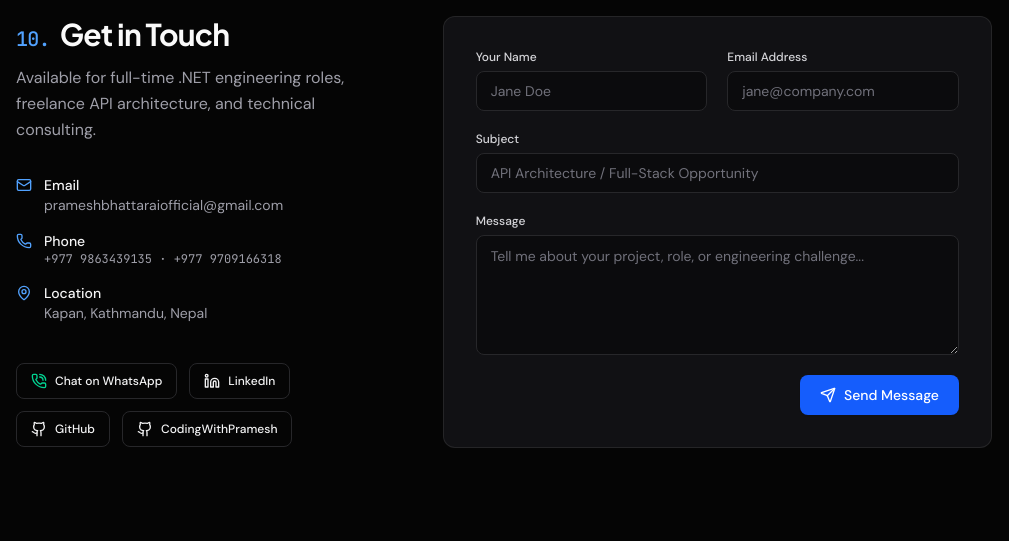
it: Portfolio Core Flows › validates contact form fields before submitting to API
The image size is (1009, 541).
Later steps or results of the test are not shown.
Click the button "Send Message" at (880, 395), box [800,375,959,415]
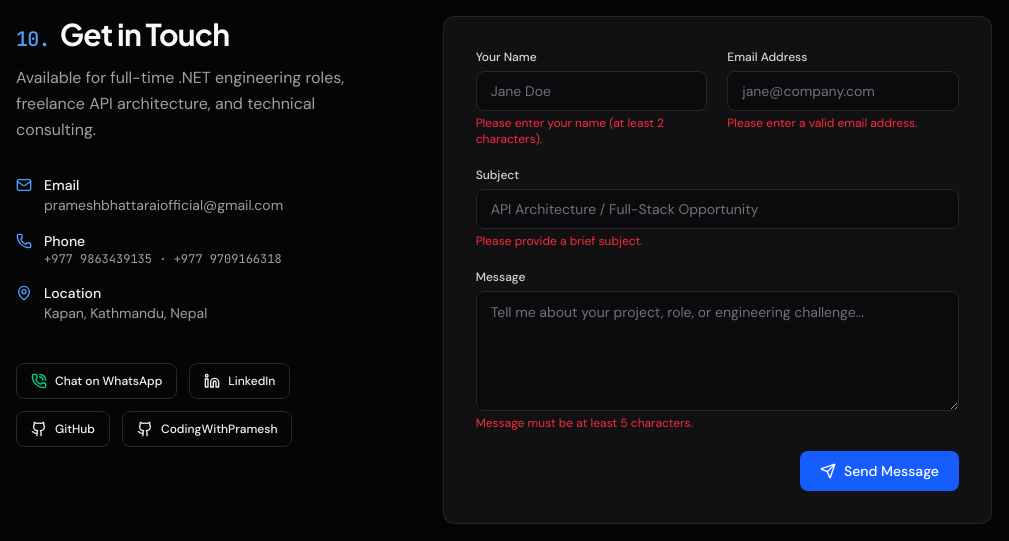
Check: the text "Please enter your name (at least 2 characters)." is shown, box [476,115,664,147]
